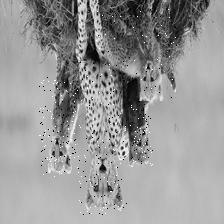Cheetha: (95, 2, 178, 100), (80, 61, 128, 214), (40, 76, 87, 176), (130, 103, 154, 166)
